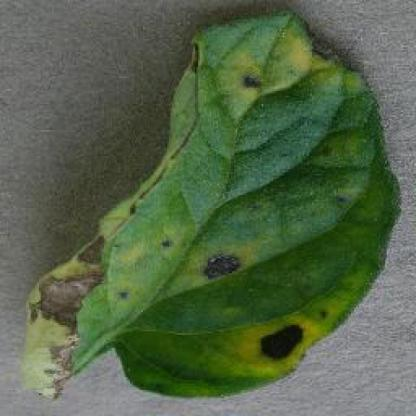Tomato_Blight: (28, 13, 400, 395)
